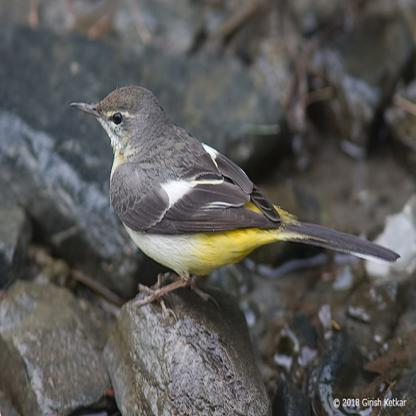Burung: (70, 84, 398, 308)
